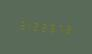eight: (65, 21, 72, 36)
one: (25, 18, 32, 32)
seven: (57, 21, 64, 35)
six: (49, 20, 56, 34)
three: (17, 17, 24, 32)
two: (33, 18, 40, 33), (41, 19, 48, 34)
